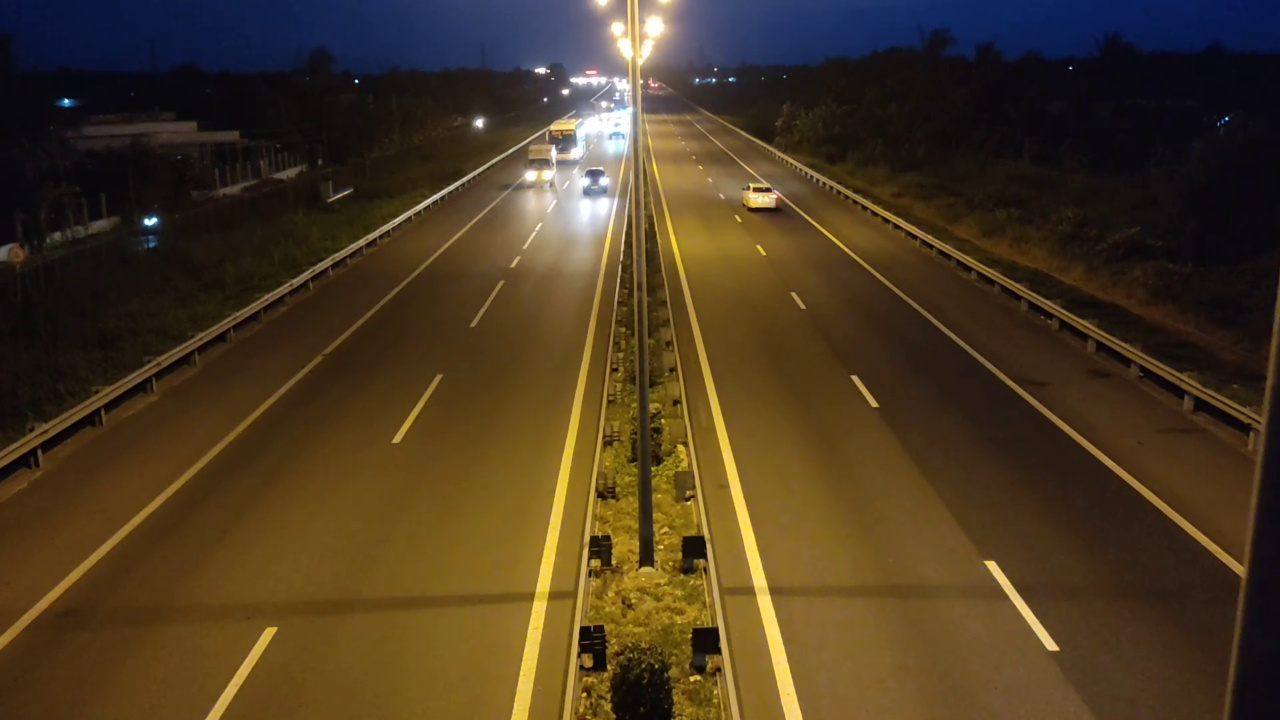car: (741, 183, 781, 210), (581, 167, 611, 196)
